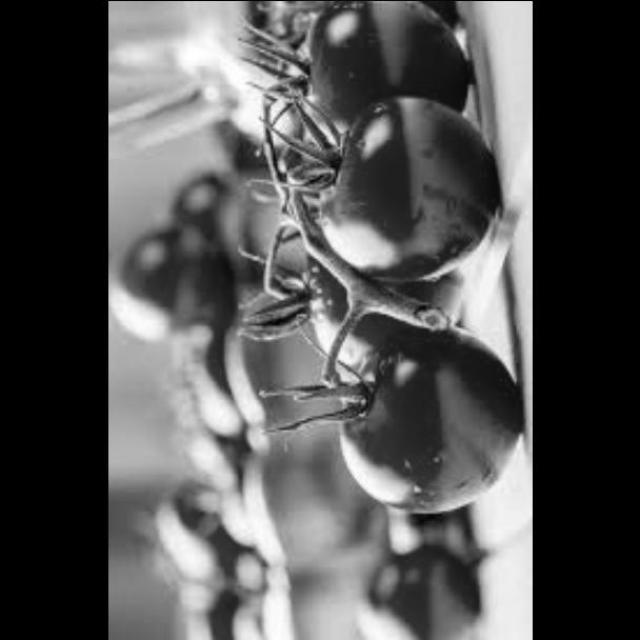ca chua: (127, 160, 298, 640), (327, 327, 519, 519), (310, 96, 492, 270), (294, 215, 478, 349), (282, 0, 463, 126), (349, 532, 475, 640)
